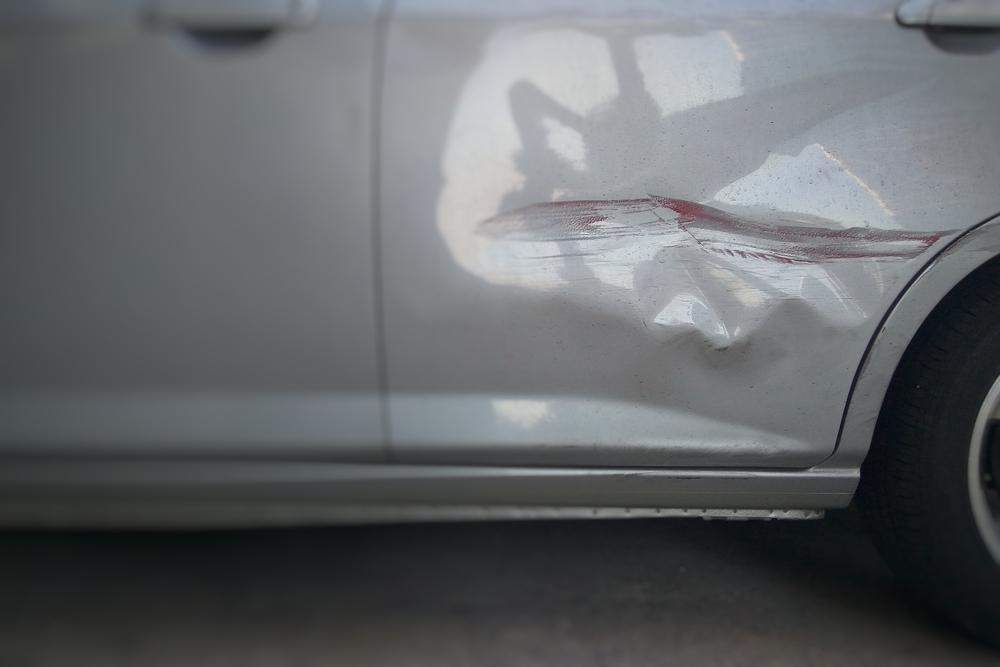dent: (489, 107, 937, 454)
